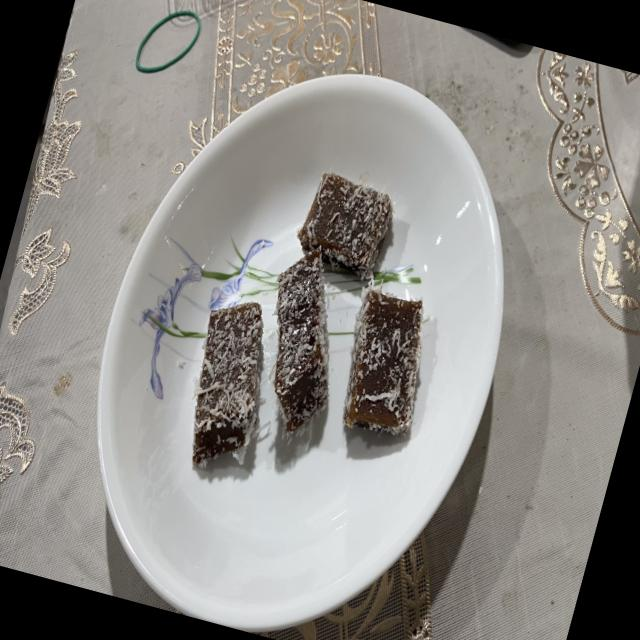kaswi: (192, 301, 263, 468), (344, 288, 423, 434), (274, 246, 328, 434), (298, 172, 392, 280)
